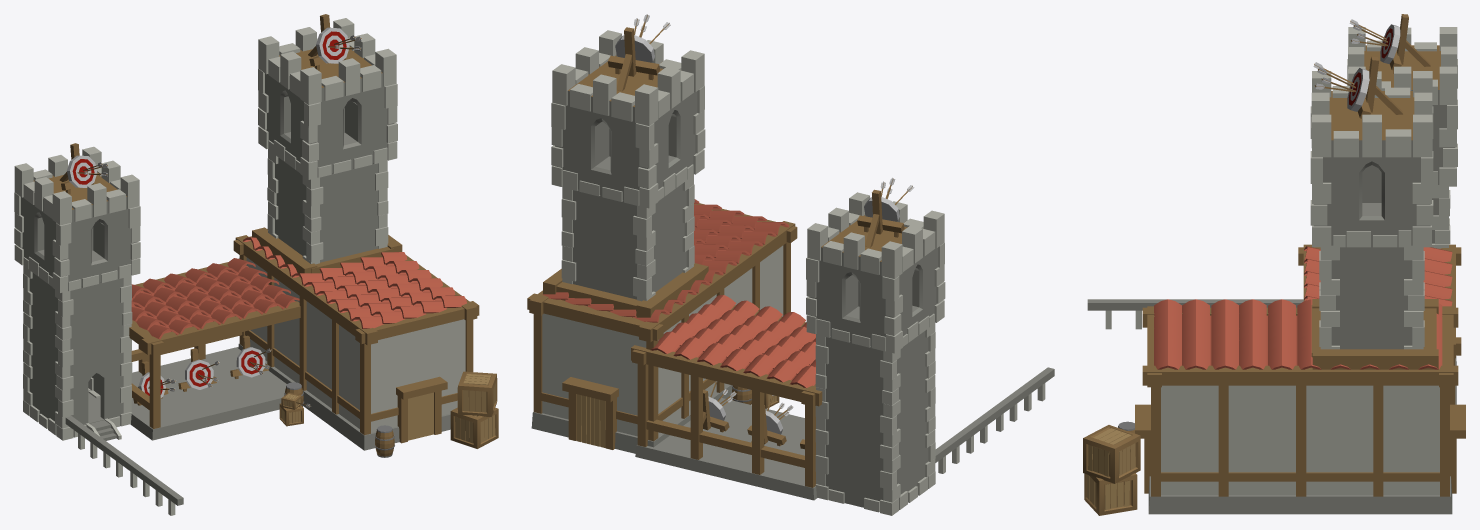
Rendered from Archery_SecondAge_Level3.gltf.
3 views of the same model, side by side, from view 1: azimuth 30°, elevation 25°; view 2: azimuth 150°, elevation 25°; view 3: azimuth 270°, elevation 25° (orthographic). The views are drawn at different scales.
Parts seen in each view (by area): view 1: Archery_SecondAge_Level3; view 2: Archery_SecondAge_Level3; view 3: Archery_SecondAge_Level3.
Part boxes in pixels (<box>): Archery_SecondAge_Level3: <box>14,14,498,515</box>; Archery_SecondAge_Level3: <box>527,14,1054,515</box>; Archery_SecondAge_Level3: <box>1083,14,1465,515</box>.
Bounding box in the file's own units: 1.95 × 1.95 × 1.59.
